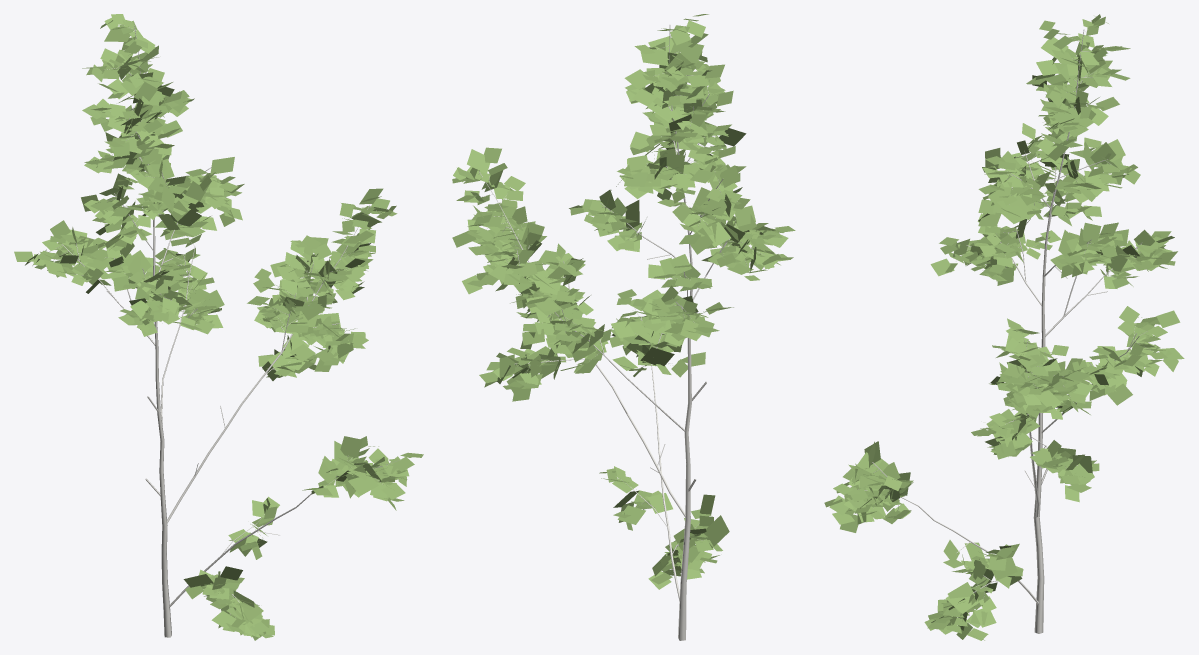
The picture shows the model from 3 angles, left to right: view 1: azimuth 30°, elevation 25°; view 2: azimuth 150°, elevation 25°; view 3: azimuth 270°, elevation 25°; orthographic projection. The views are drawn at different scales.
Visible parts, largest first — view 1: leaves, bark; view 2: leaves, bark; view 3: leaves, bark.
Part boxes in pixels (bbox=[...]): leaves: bbox=[14, 14, 423, 640]; bark: bbox=[48, 24, 398, 637]; leaves: bbox=[452, 14, 795, 589]; bark: bbox=[475, 24, 763, 640]; leaves: bbox=[824, 14, 1184, 640]; bark: bbox=[858, 29, 1154, 633].
Bounding box in the file's own units: 3.81 × 6.95 × 3.75.
